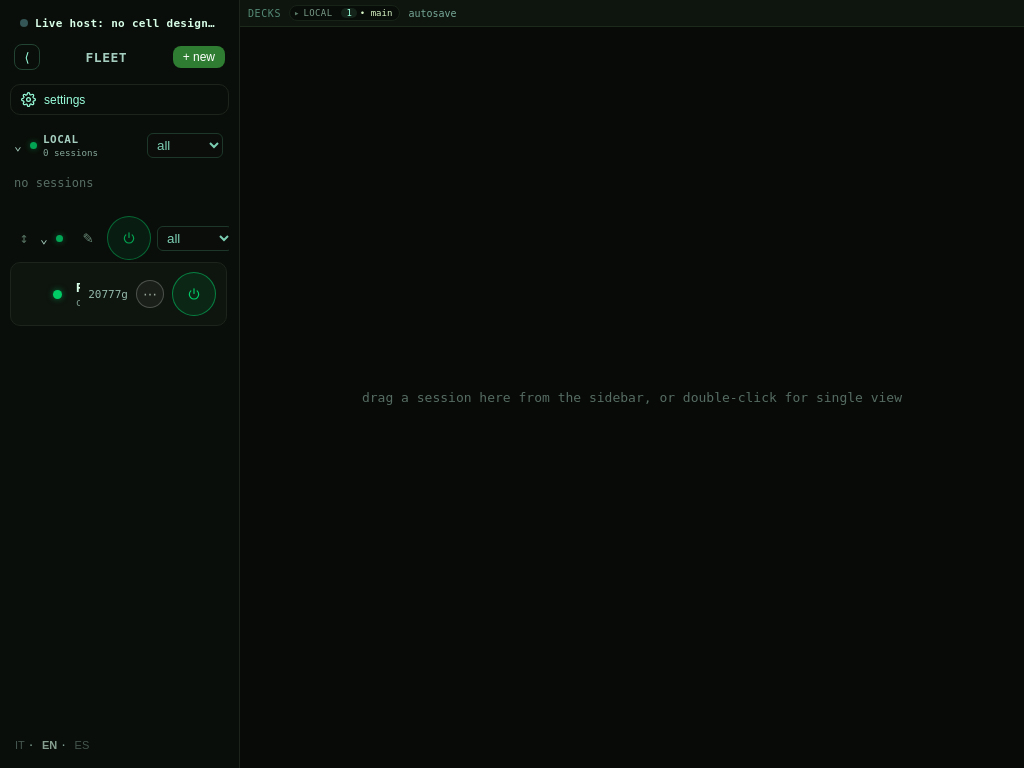
Test case: workspace desktop — foglio power su inventario remoto › controllo positivo: gruppo vivo → il foglio mostra «NC control attested» e «sent»
Click the button titled "power off" next to "Relay Live" at (194, 294), box [172,272,216,316]
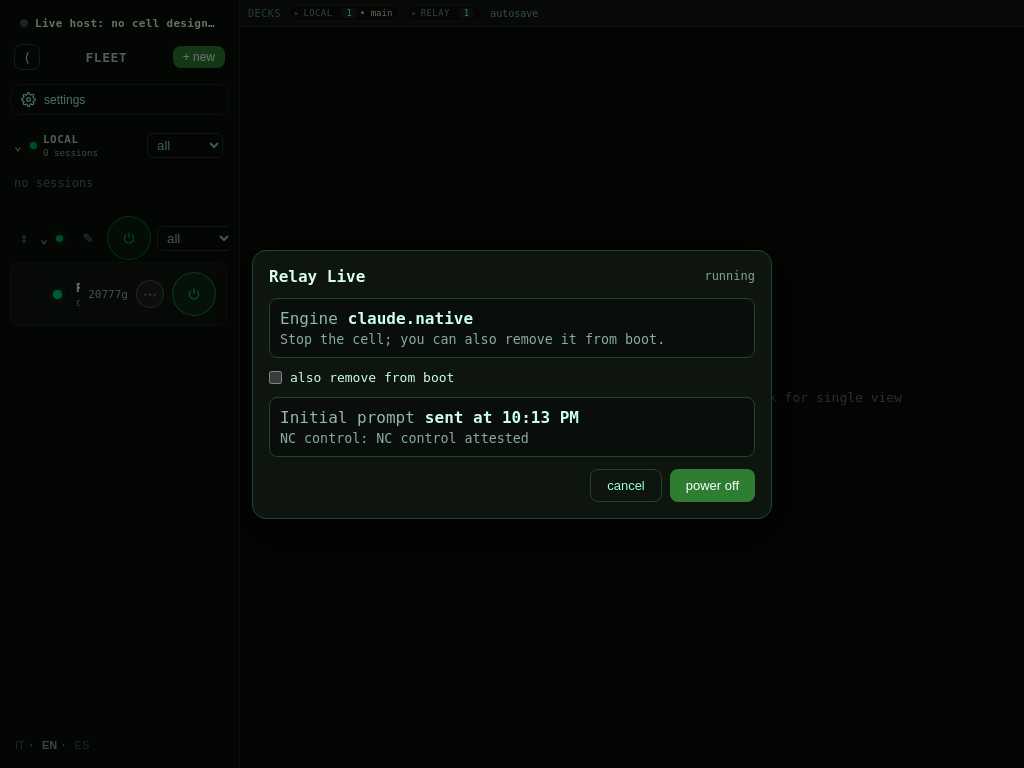
Now the text "Initial prompt" shows "NC control attested", box [376,430,529,446]
Now the text "Initial prompt" shows "sent", box [425,408,579,426]
